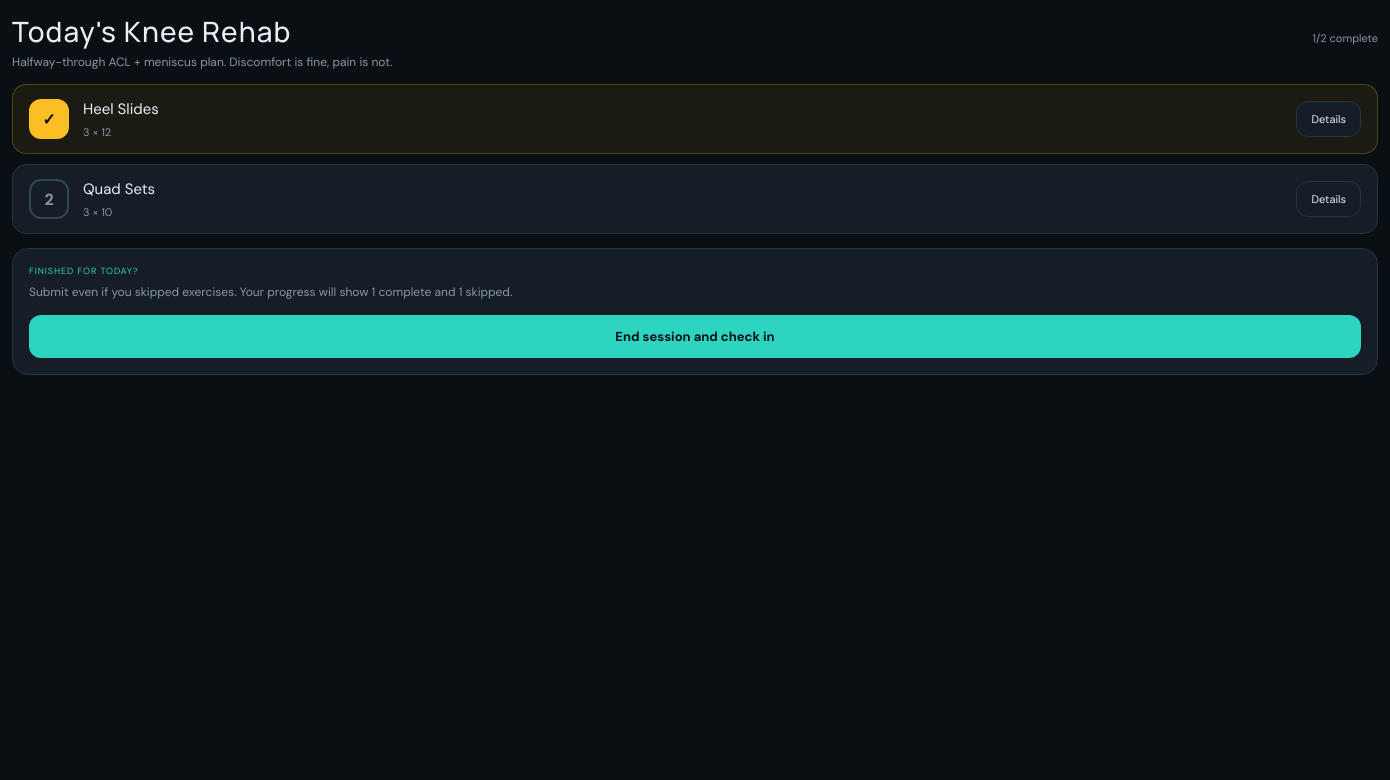
TrainView session check-in › saves ratings with partial workout completion
Click the button "End session and check in": {"x": 695, "y": 336} [29,315,1361,358]
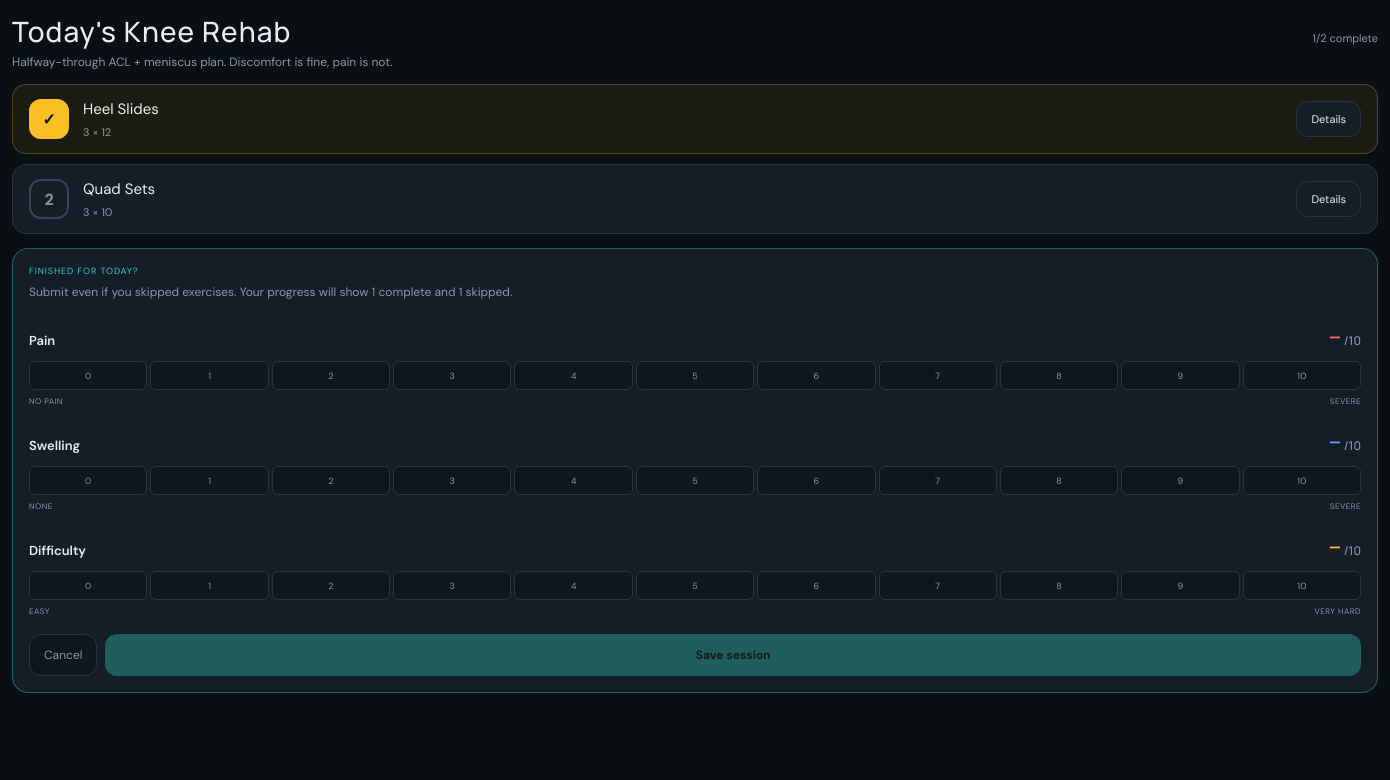
Click the button named "Pain 3 out of 10": {"x": 452, "y": 376} [393,361,512,390]
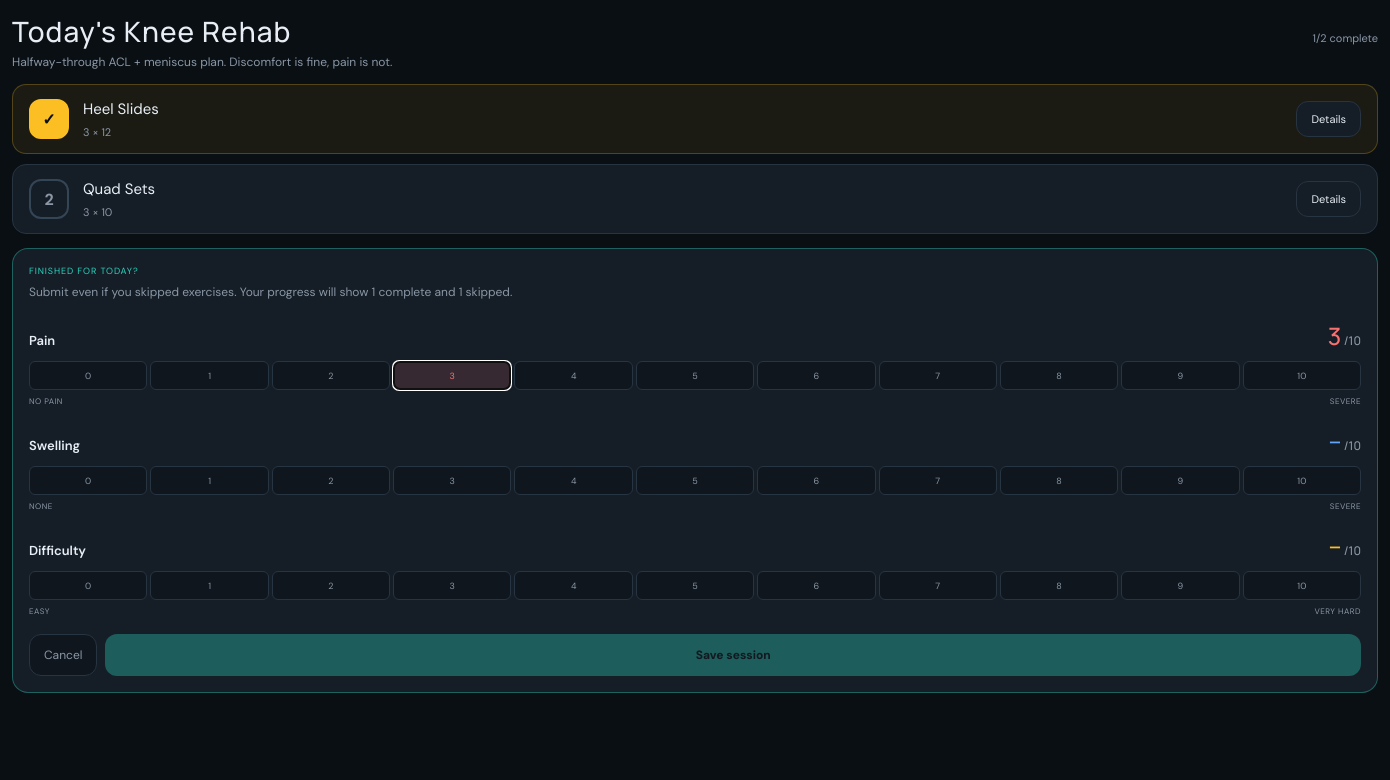
Click the button named "Swelling 2 out of 10": {"x": 331, "y": 480} [272,466,390,495]
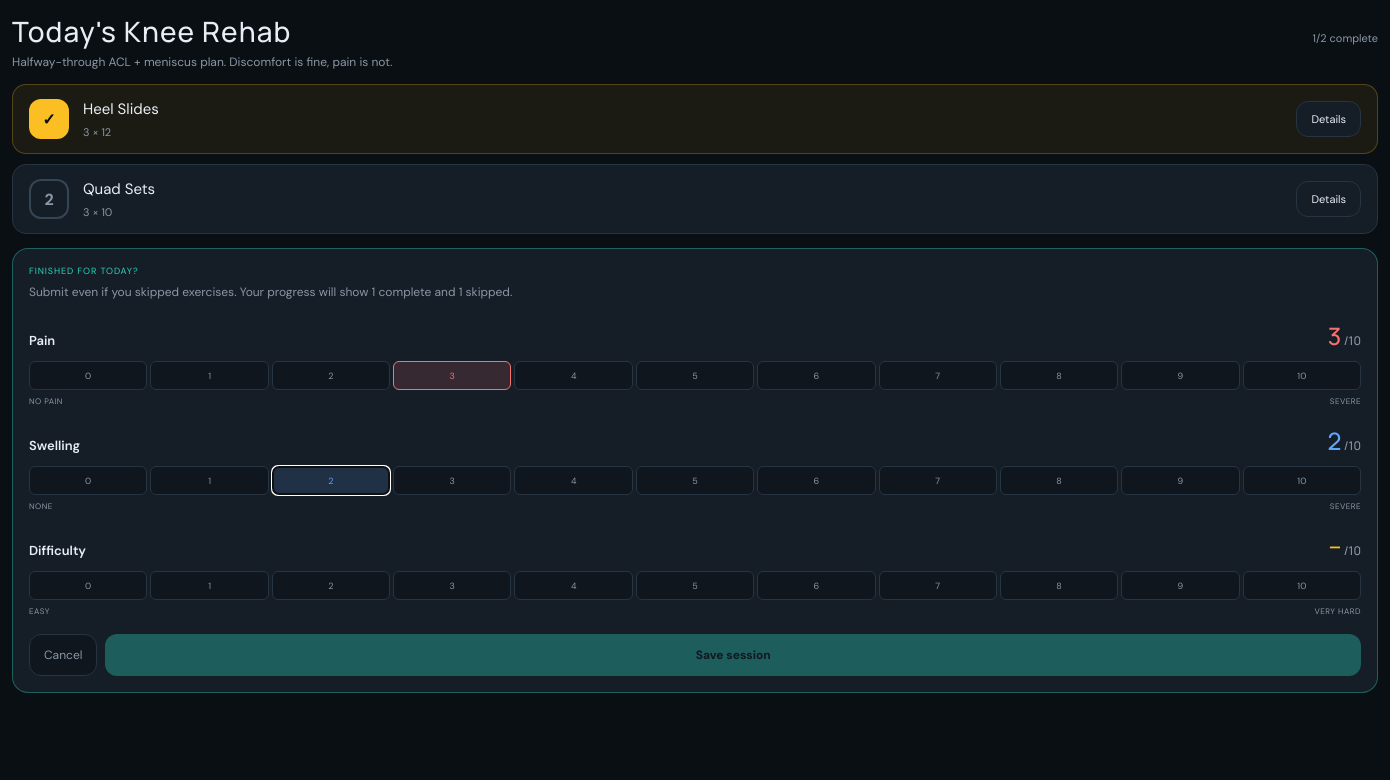
Click the button named "Difficulty 6 out of 10": {"x": 816, "y": 586} [757,571,876,600]
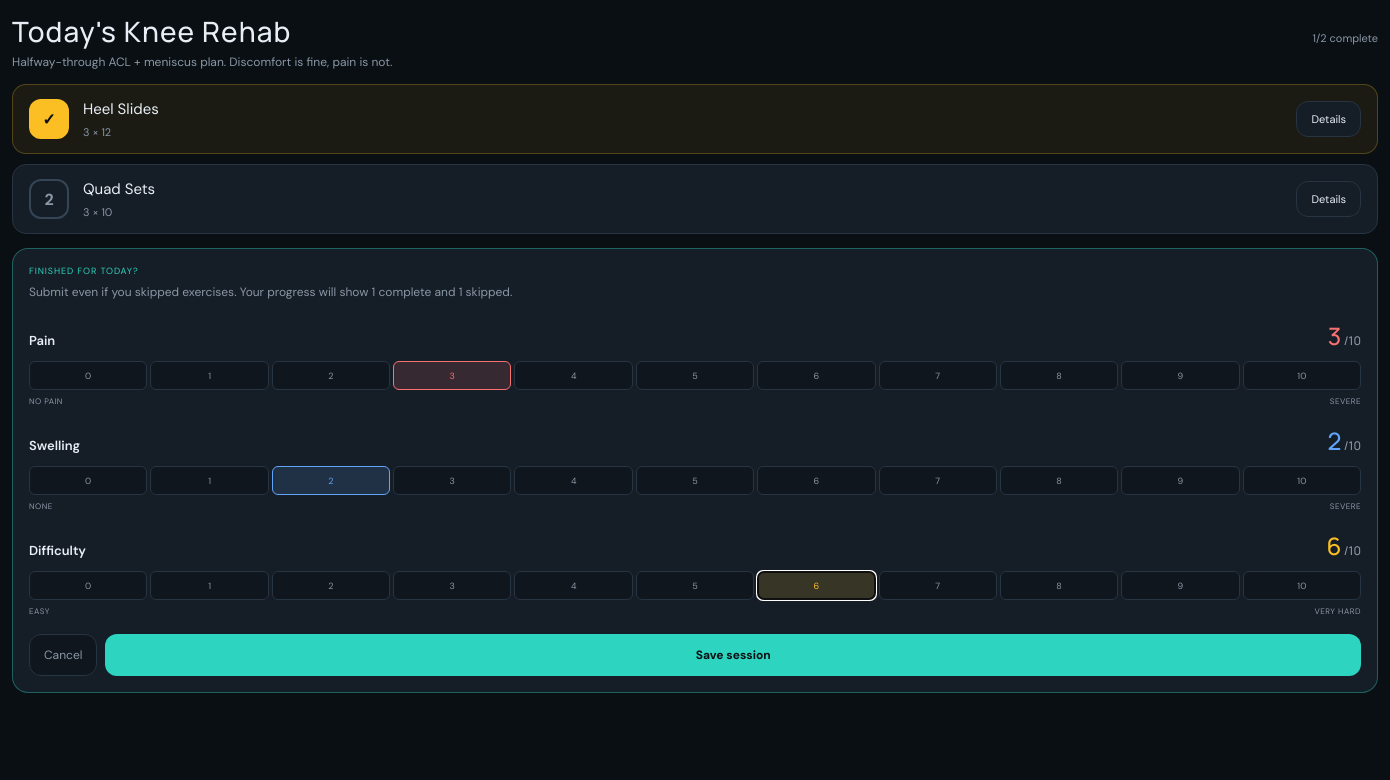
Click the button "Save session": {"x": 733, "y": 655} [105,634,1361,676]
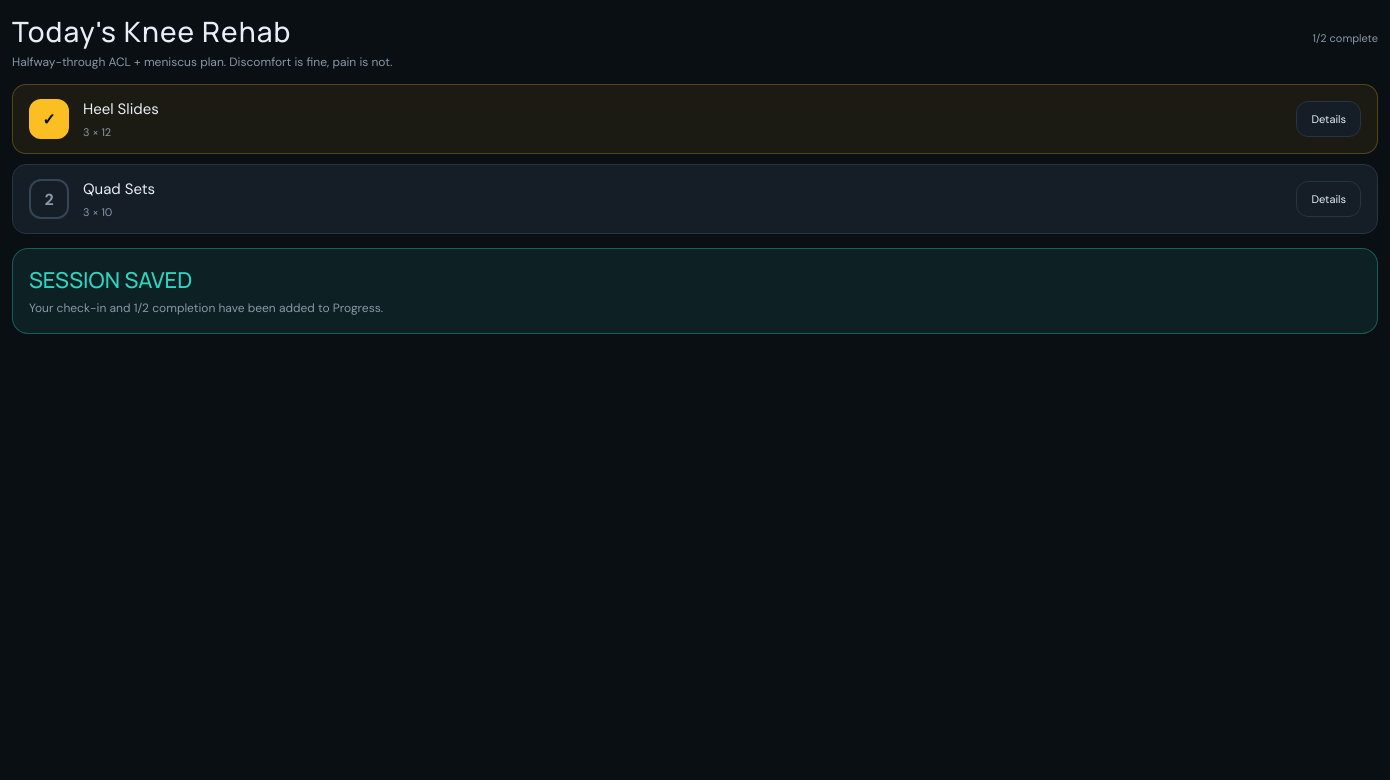
Now the text "SESSION SAVED" is shown, box [29,265,192,295]
